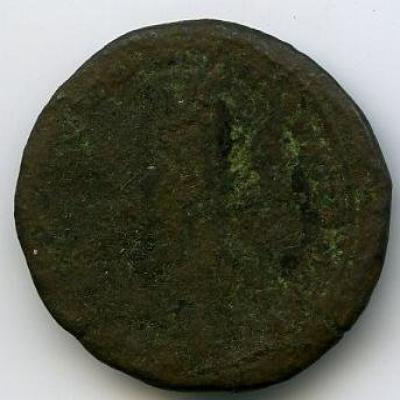numismatics: (13, 19, 393, 390)
